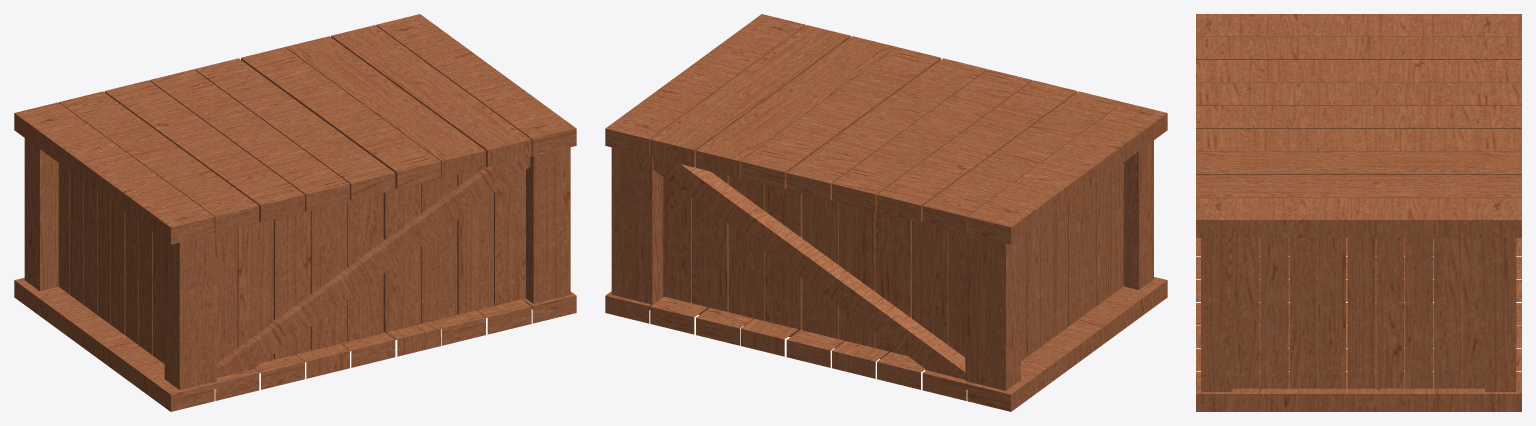
File: kibako.fbx
The picture shows the model from 3 angles, left to right: view 1: azimuth 30°, elevation 25°; view 2: azimuth 150°, elevation 25°; view 3: azimuth 270°, elevation 25°; orthographic projection. The views are drawn at different scales.
Visible parts, largest first — view 1: kibako_1; view 2: kibako_1; view 3: kibako_1.
Part boxes in pixels (x1,y1,x2,y2): kibako_1: [14, 14, 576, 411]; kibako_1: [605, 14, 1167, 411]; kibako_1: [1196, 14, 1521, 411].
Size of the model in its own units: 9.45 by 4.1 by 6.31.
Materials: 1 (1 with a texture image).
